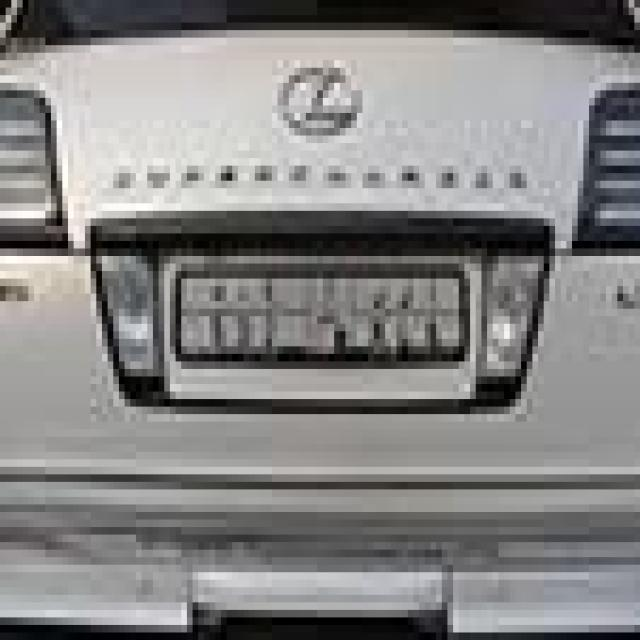license_plate: (172, 251, 481, 364)
